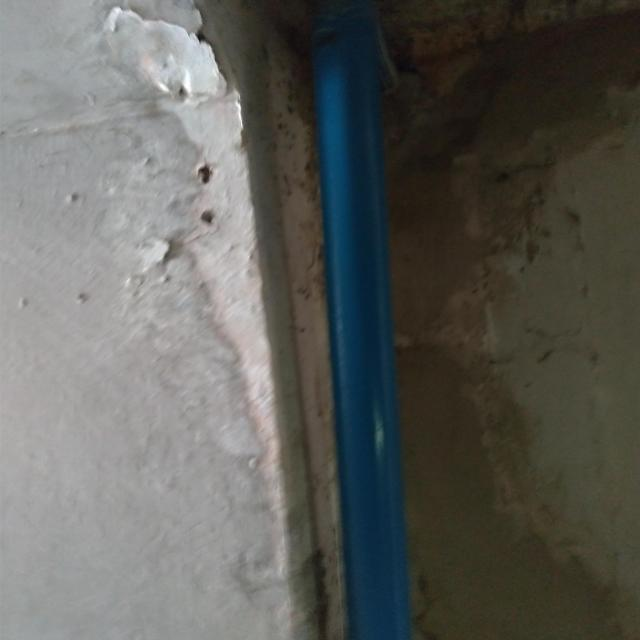gas: (312, 25, 412, 631)
